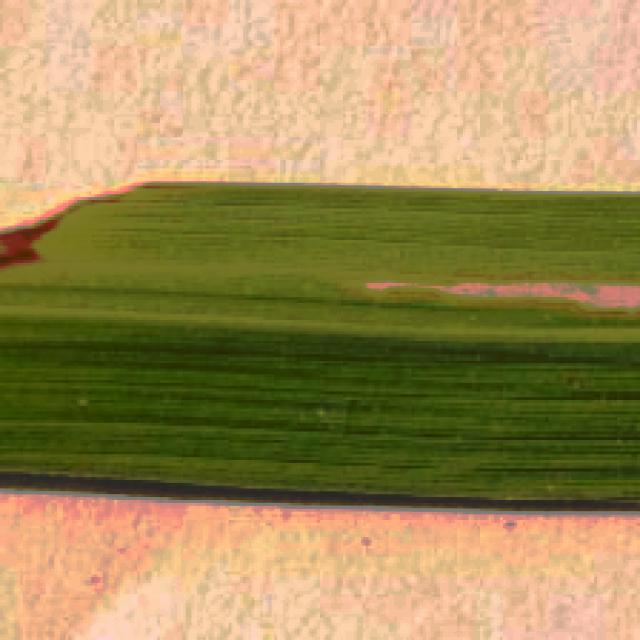unhealth: (0, 183, 640, 512)
